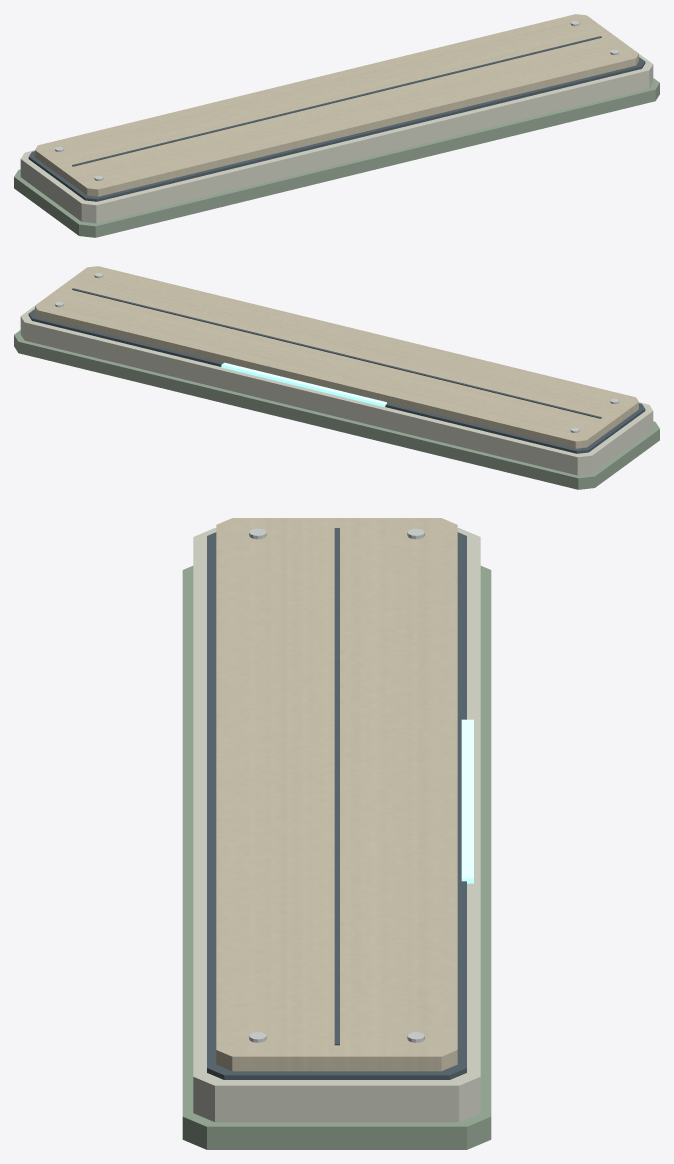
The model's file is m01-metal-edge-south.glb.
3 renders of one model, top to bottom at view 1: azimuth 30°, elevation 25°; view 2: azimuth 150°, elevation 25°; view 3: azimuth 270°, elevation 25°, orthographic. The views are drawn at different scales.
Parts seen in each view (by area): view 1: edge-south/003, edge-south/001, edge-south/000, edge-south/002, edge-south/004; view 2: edge-south/003, edge-south/001, edge-south/000, edge-south/002, edge-south/004, edge-south/009; view 3: edge-south/003, edge-south/001, edge-south/000, edge-south/002, edge-south/004, edge-south/009.
Boxes of the visible parts, left/top/right/bottom form: edge-south/003: left=35, top=14, right=638, bottom=196; edge-south/001: left=20, top=54, right=653, bottom=223; edge-south/000: left=14, top=78, right=659, bottom=237; edge-south/002: left=28, top=57, right=645, bottom=201; edge-south/004: left=72, top=36, right=601, bottom=166; edge-south/003: left=35, top=266, right=638, bottom=448; edge-south/001: left=20, top=306, right=653, bottom=475; edge-south/000: left=14, top=330, right=659, bottom=489; edge-south/002: left=28, top=309, right=645, bottom=453; edge-south/004: left=72, top=288, right=601, bottom=418; edge-south/009: left=221, top=362, right=386, bottom=406; edge-south/003: left=216, top=518, right=457, bottom=1071; edge-south/001: left=193, top=528, right=480, bottom=1122; edge-south/000: left=182, top=566, right=491, bottom=1149; edge-south/002: left=207, top=532, right=466, bottom=1079; edge-south/004: left=334, top=528, right=339, bottom=1045; edge-south/009: left=461, top=719, right=473, bottom=883.
Bounding box in the file's own units: 1 × 0.0678 × 0.23.
Materials: 6 (1 with a texture image).
